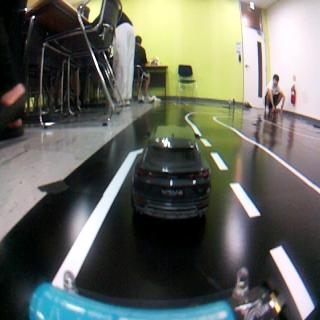car: (126, 123, 215, 231)
